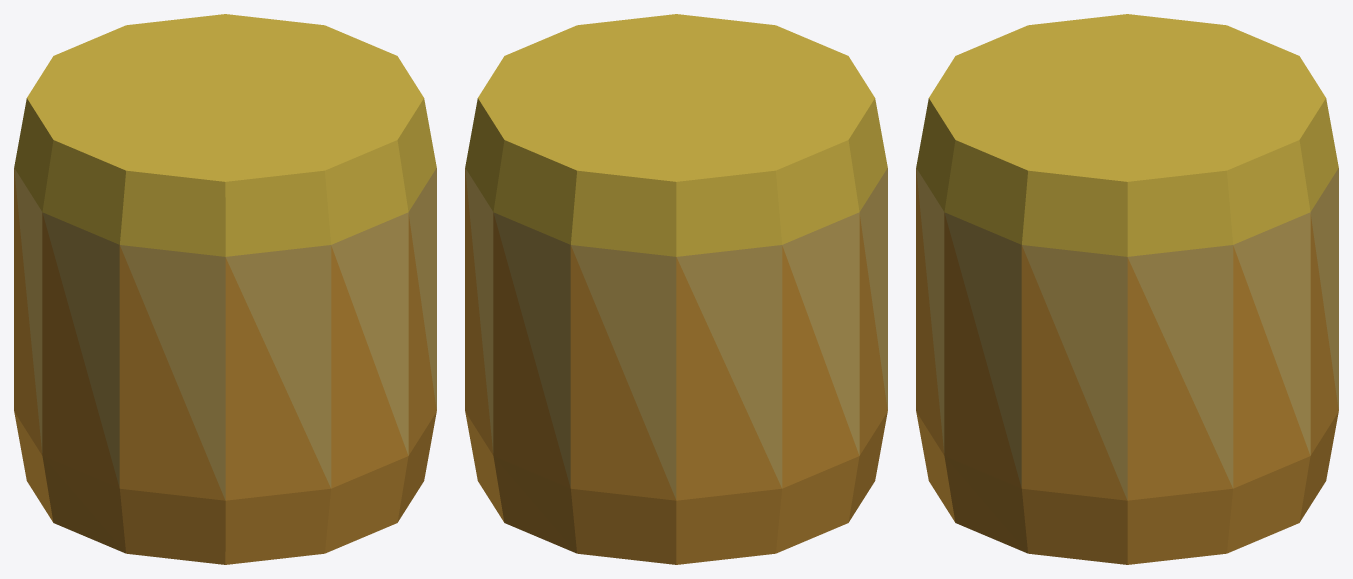
The model's file is cheese.glb.
The picture shows the model from 3 angles, left to right: view 1: azimuth 30°, elevation 25°; view 2: azimuth 150°, elevation 25°; view 3: azimuth 270°, elevation 25°; orthographic projection.
Bounding box in the file's own units: 1 × 1 × 1.
